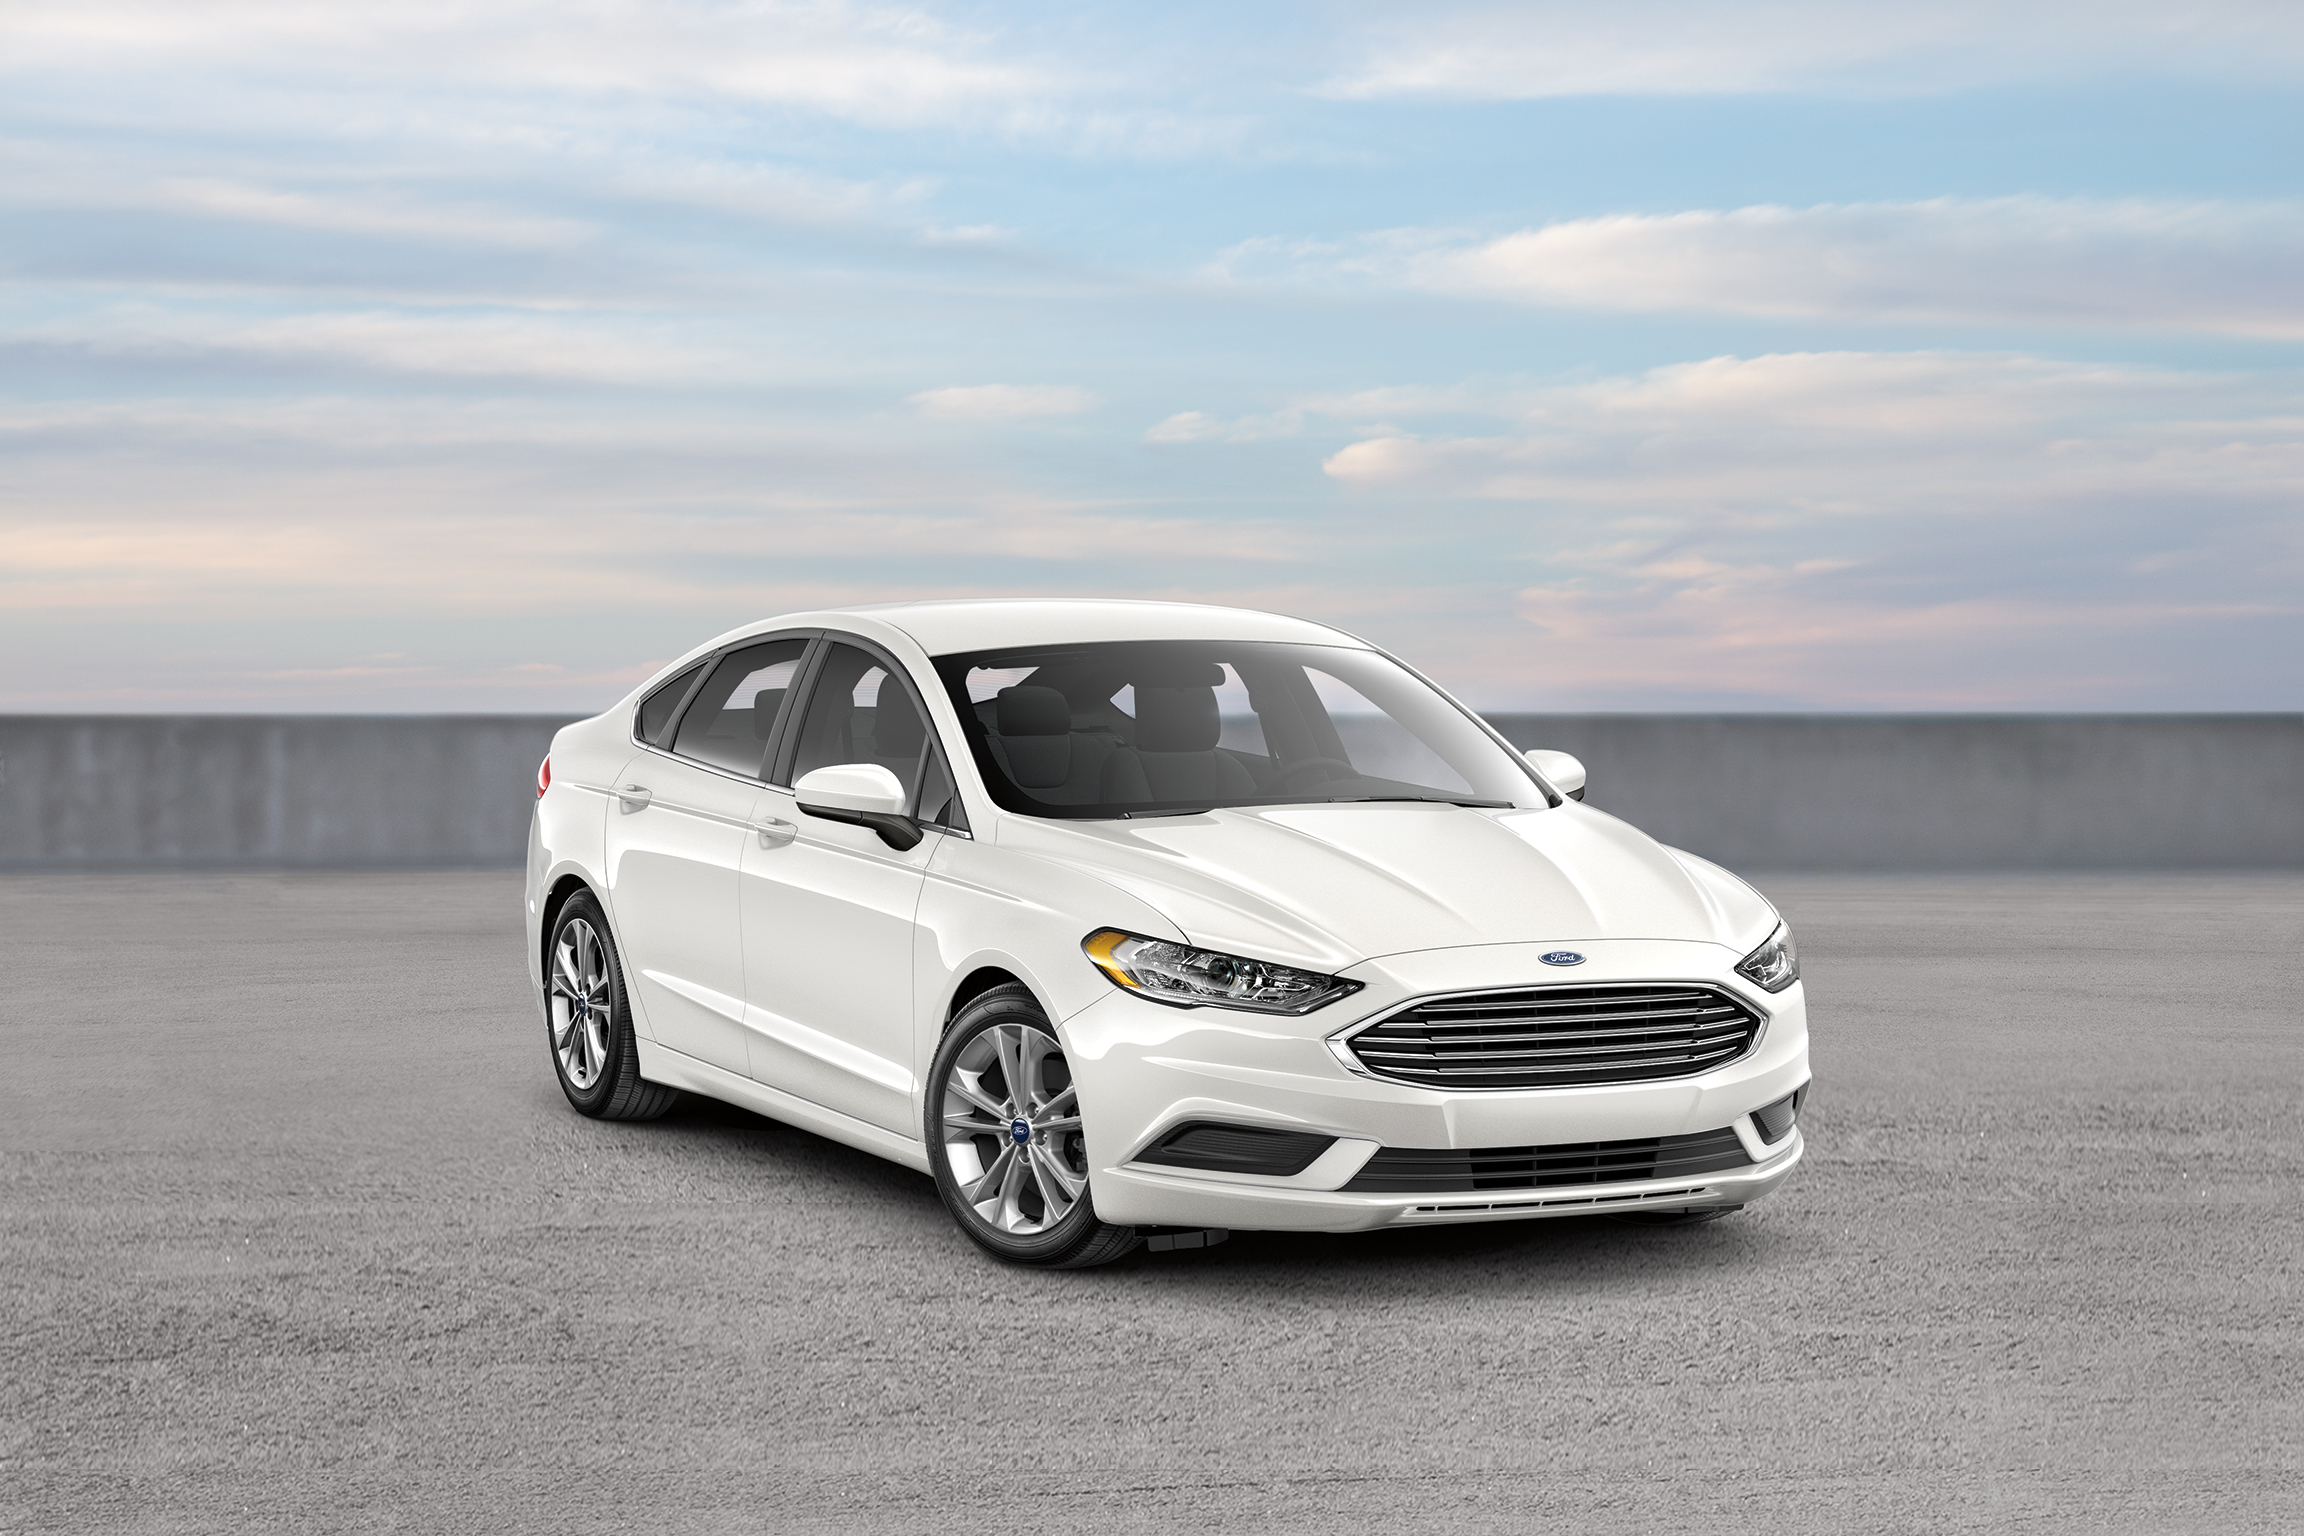car: (521, 597, 1812, 1270)
